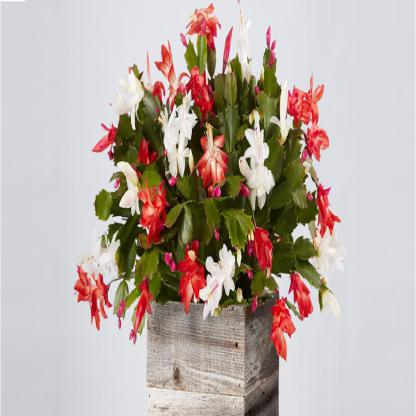Aglonema: (35, 37, 416, 366), (246, 295, 416, 416)
